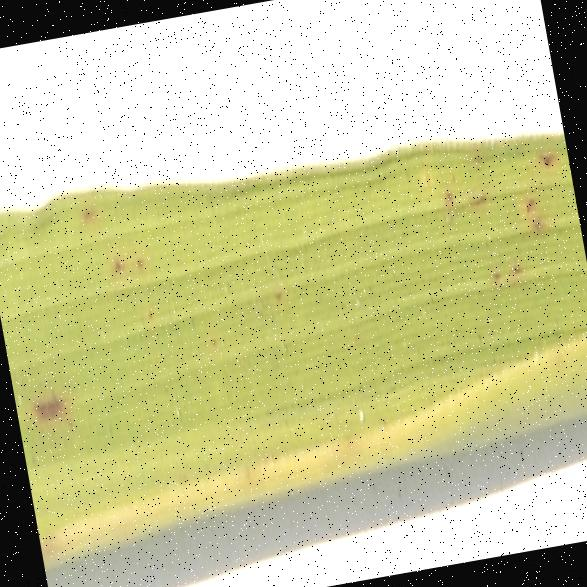Brown_Spot: (401, 49, 584, 308), (98, 225, 167, 328), (20, 371, 77, 438)
